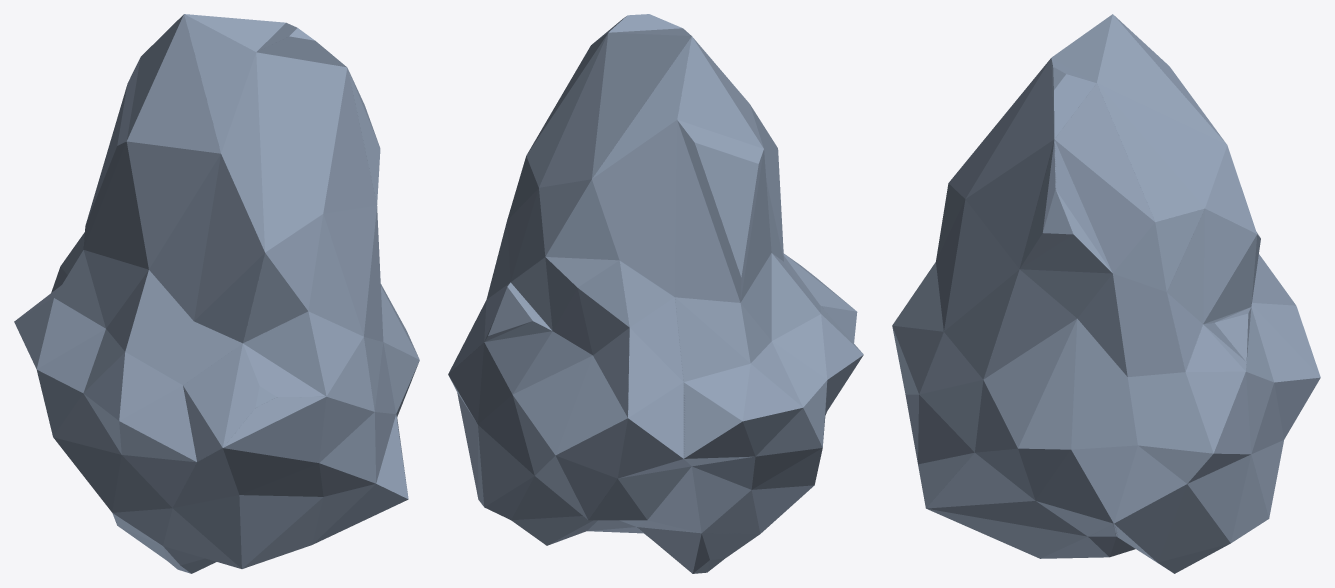
Rendered from CUPIC_ICEBERG.gltf.
3 views of the same model, side by side, from view 1: azimuth 30°, elevation 25°; view 2: azimuth 150°, elevation 25°; view 3: azimuth 270°, elevation 25° (orthographic). The views are drawn at different scales.
Visible parts, largest first — view 1: node-0; view 2: node-0; view 3: node-0.
Boxes of the visible parts, box(x1,y1,x2,y2) form: node-0: box(14, 14, 419, 573); node-0: box(448, 14, 863, 573); node-0: box(892, 14, 1320, 573).
Size of the model in its own units: 382 by 568 by 412.
Materials: 1 (1 with a texture image).
